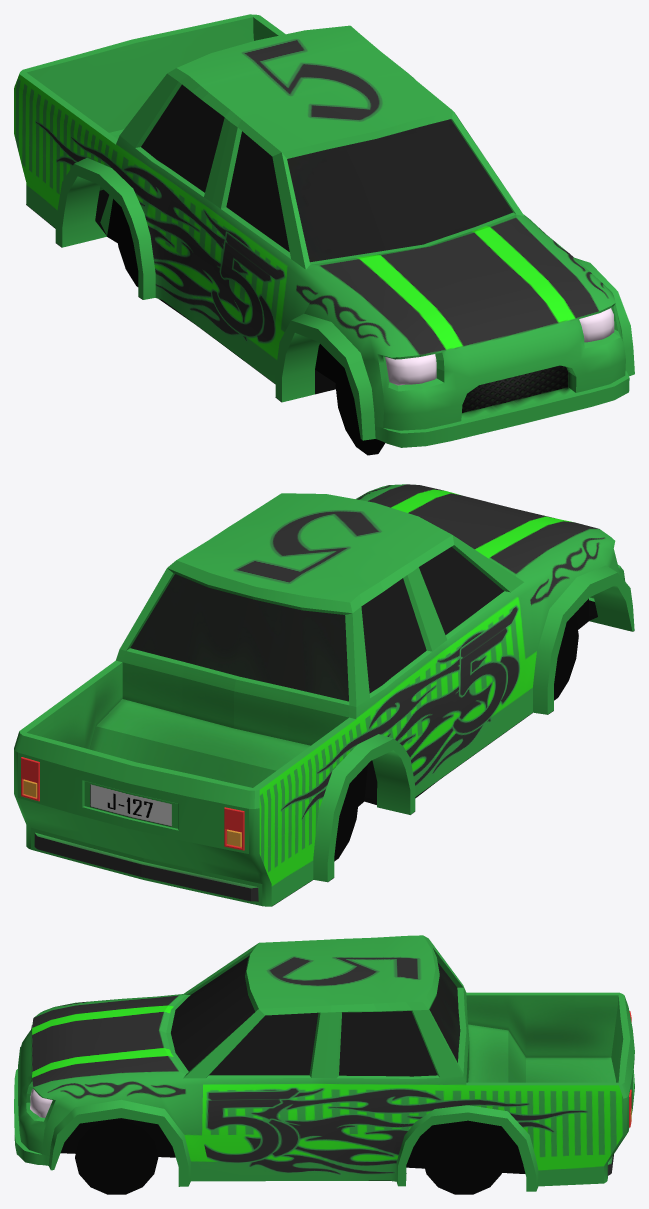
The model's file is hilux.FBX.
3 renders of one model, top to bottom at view 1: azimuth 30°, elevation 25°; view 2: azimuth 150°, elevation 25°; view 3: azimuth 270°, elevation 25°, orthographic. The views are drawn at different scales.
Parts seen in each view (by area): view 1: hilux; view 2: hilux; view 3: hilux.
Part boxes in pixels (left/top/right/bottom): hilux: left=14, top=14, right=634, bottom=455; hilux: left=14, top=484, right=634, bottom=906; hilux: left=14, top=935, right=634, bottom=1194.
Bounding box in the file's own units: 332 × 282 × 829.
